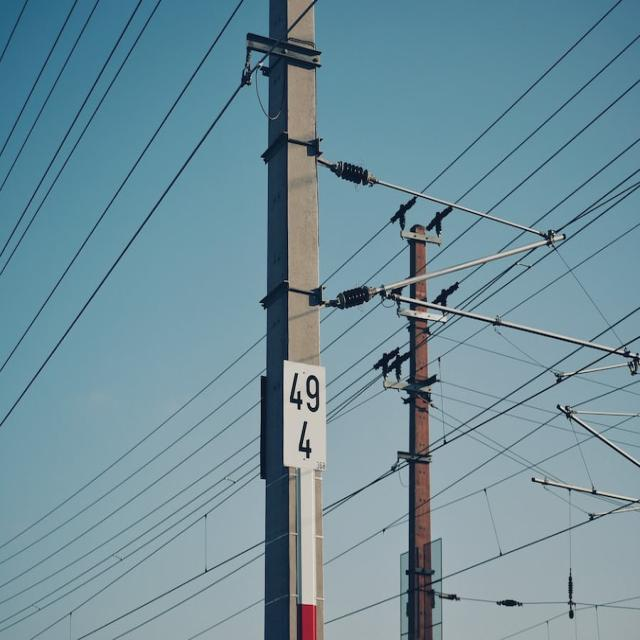insulator: (332, 141, 394, 207), (329, 274, 390, 321)
